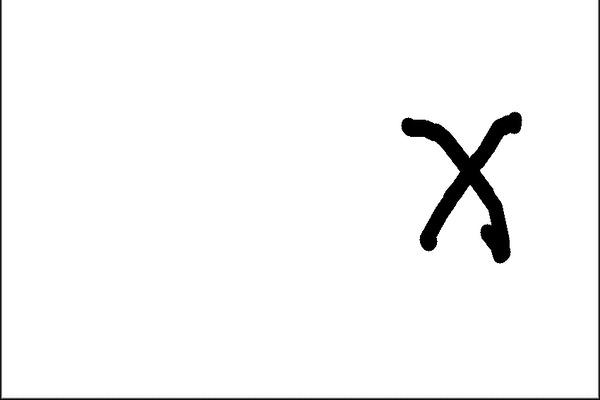X: (370, 100, 542, 275)
